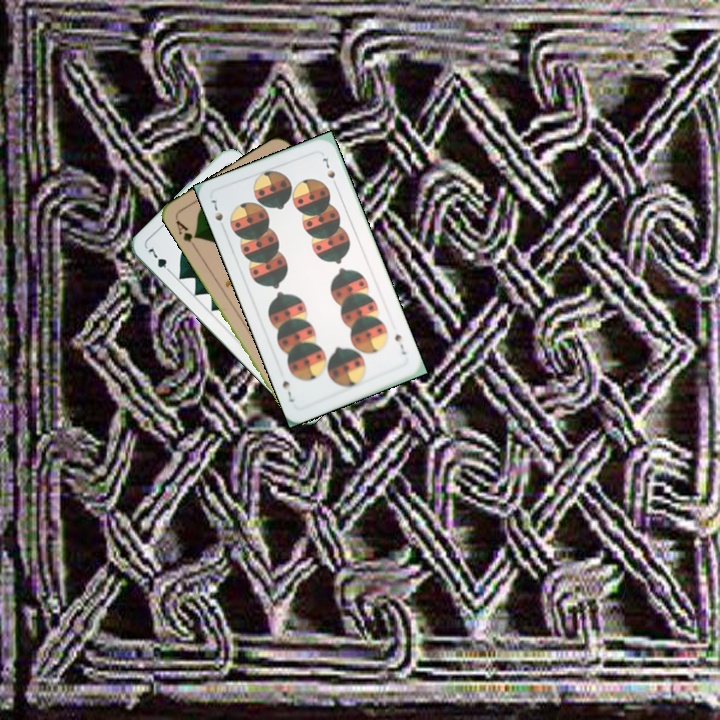G7: (144, 243, 175, 277)
GA: (171, 216, 200, 251)
S7: (208, 196, 228, 233), (391, 330, 409, 357)
